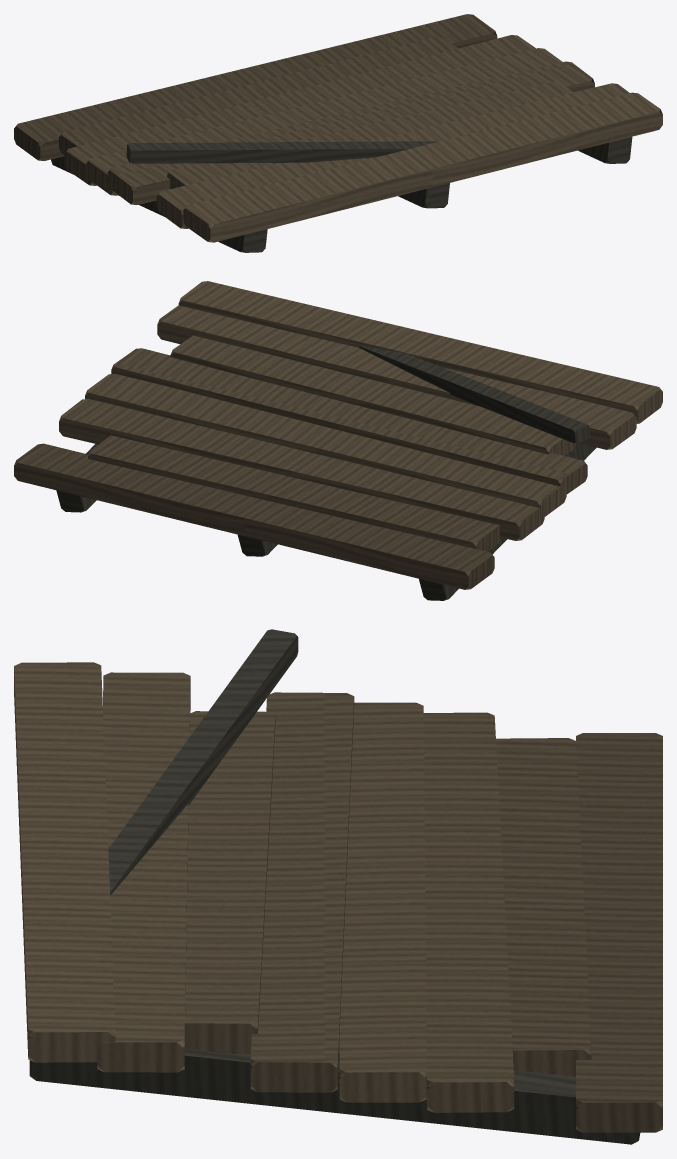
Rendered from cataclysm_rootvault_roof.glb.
3 views of the same model, one above another, from view 1: azimuth 30°, elevation 25°; view 2: azimuth 150°, elevation 25°; view 3: azimuth 270°, elevation 25° (orthographic). The views are drawn at different scales.
Visible parts, largest first — view 1: cataclysm_rootvault_roof; view 2: cataclysm_rootvault_roof; view 3: cataclysm_rootvault_roof.
Boxes of the visible parts, left/top/right/bottom form: cataclysm_rootvault_roof: left=14, top=14, right=662, bottom=252; cataclysm_rootvault_roof: left=14, top=281, right=662, bottom=600; cataclysm_rootvault_roof: left=14, top=629, right=662, bottom=1144.
Size of the model in its own units: 2.78 by 0.6172 by 2.05.
Materials: 1 (1 with a texture image).
